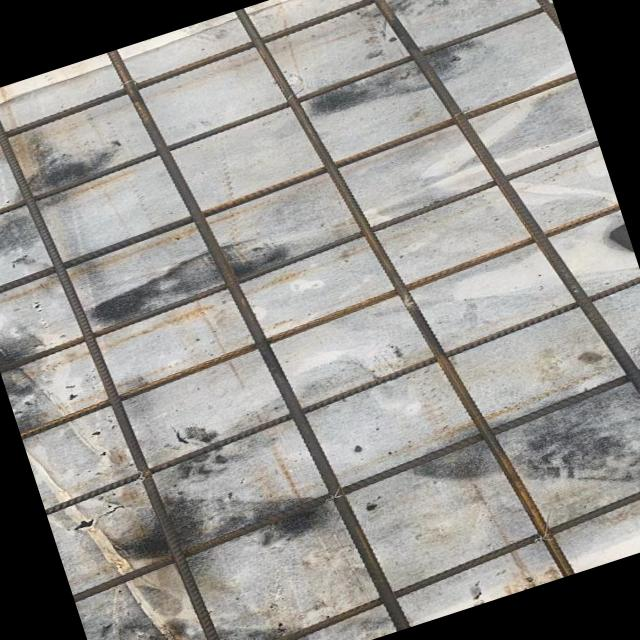ribbed bar: (231, 0, 576, 620), (104, 17, 414, 640), (353, 0, 640, 568), (10, 204, 630, 440), (33, 275, 640, 516), (0, 139, 609, 374), (60, 358, 640, 603), (0, 71, 585, 301), (0, 74, 237, 640), (0, 0, 563, 232), (95, 470, 640, 640), (0, 0, 541, 166), (482, 0, 562, 46)
